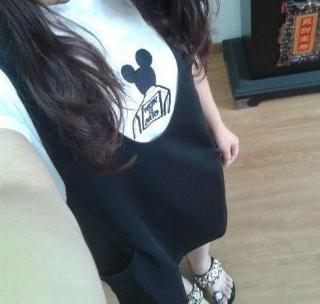short sleeve top: (0, 0, 212, 215)
vest: (0, 0, 227, 304)
